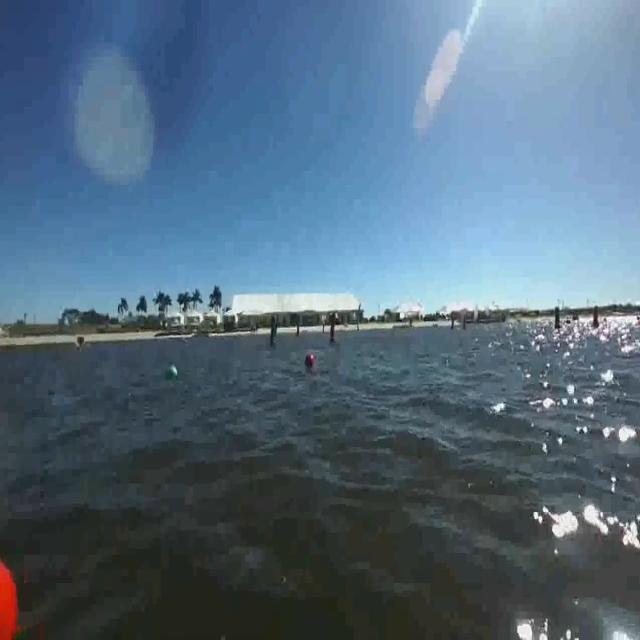green-buoy: (168, 364, 178, 378)
green-column-buoy: (270, 314, 277, 349)
red-buoy: (0, 550, 21, 640), (304, 352, 313, 368)
red-column-buoy: (591, 305, 602, 331)
